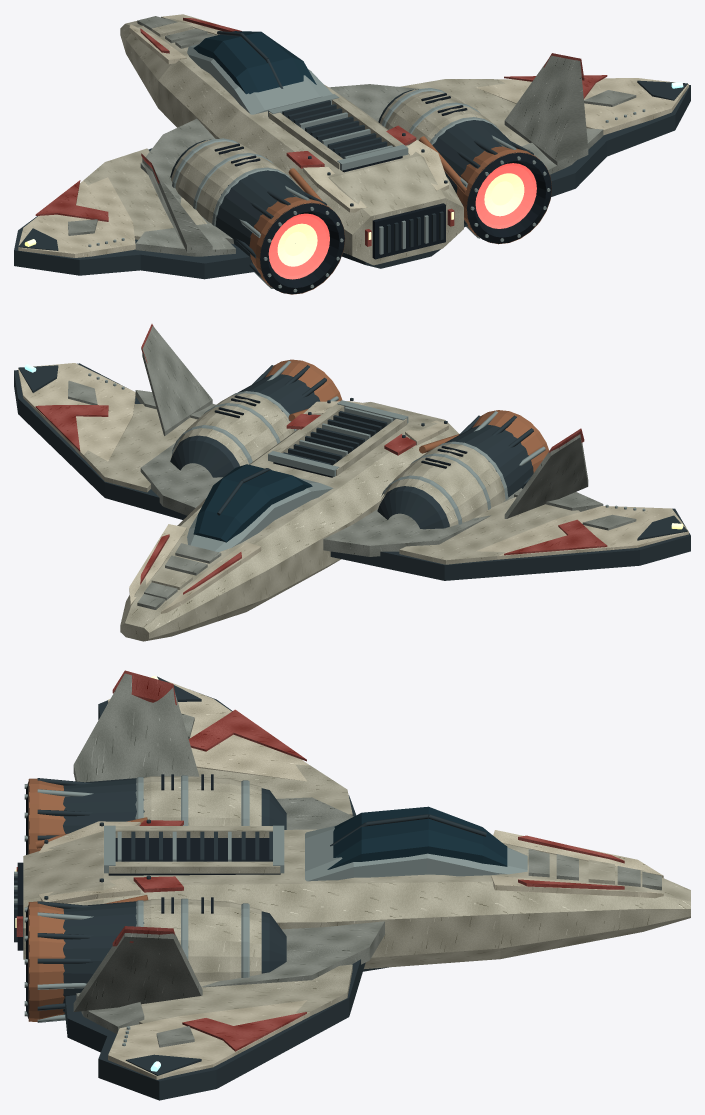
Rendered from kestrel.glb.
3 views of the same model, one above another, from view 1: azimuth 30°, elevation 25°; view 2: azimuth 150°, elevation 25°; view 3: azimuth 270°, elevation 25° (orthographic). The views are drawn at different scales.
Visible parts, largest first — view 1: Kestrel_Interceptor; view 2: Kestrel_Interceptor; view 3: Kestrel_Interceptor.
Part boxes in pixels (box(x1,y1,x2,y2)): Kestrel_Interceptor: box(14, 14, 690, 294); Kestrel_Interceptor: box(14, 324, 690, 641); Kestrel_Interceptor: box(14, 670, 690, 1100).
Size of the model in its own units: 10.8 by 2.08 by 7.67.
Materials: 13 (4 with a texture image).
